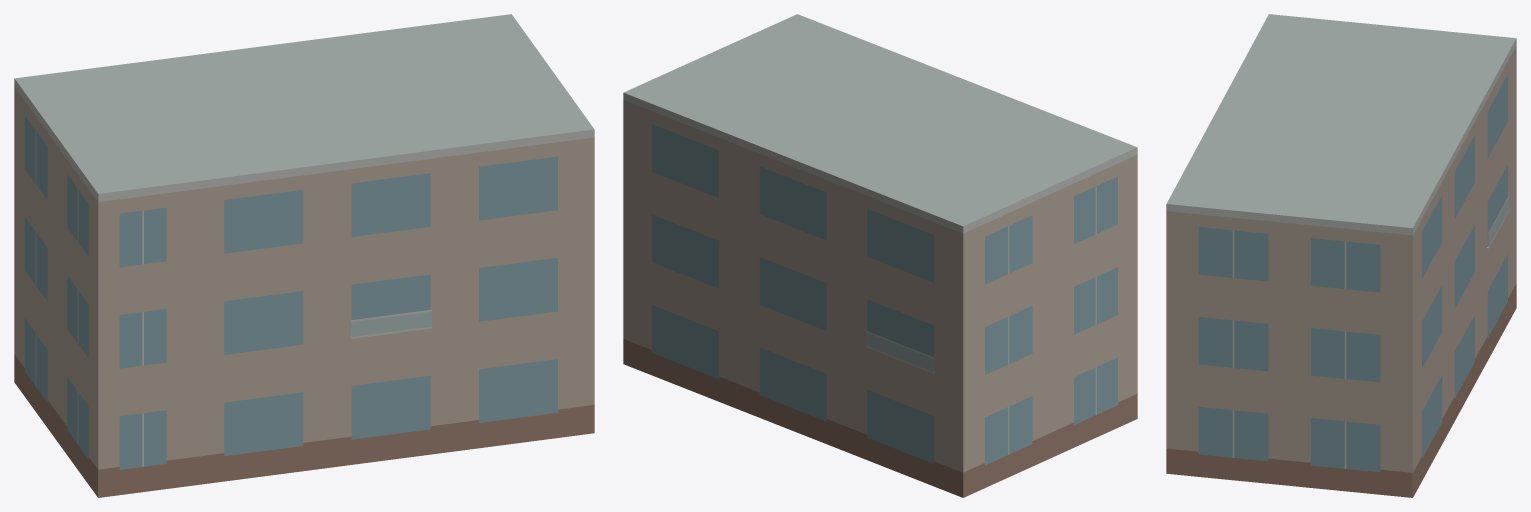
The model's file is survey-upis-33034456.glb.
3 views of the same model, side by side, from view 1: azimuth 30°, elevation 25°; view 2: azimuth 150°, elevation 25°; view 3: azimuth 270°, elevation 25° (orthographic). The views are drawn at different scales.
Visible parts, largest first — view 1: survey-upis-33034456.tmp; view 2: survey-upis-33034456.tmp; view 3: survey-upis-33034456.tmp.
Part boxes in pixels (x1,y1,x2,y2): survey-upis-33034456.tmp: (14, 14, 594, 497); survey-upis-33034456.tmp: (623, 14, 1137, 497); survey-upis-33034456.tmp: (1166, 14, 1516, 497).
Size of the model in its own units: 15.6 by 9.15 by 10.78.
